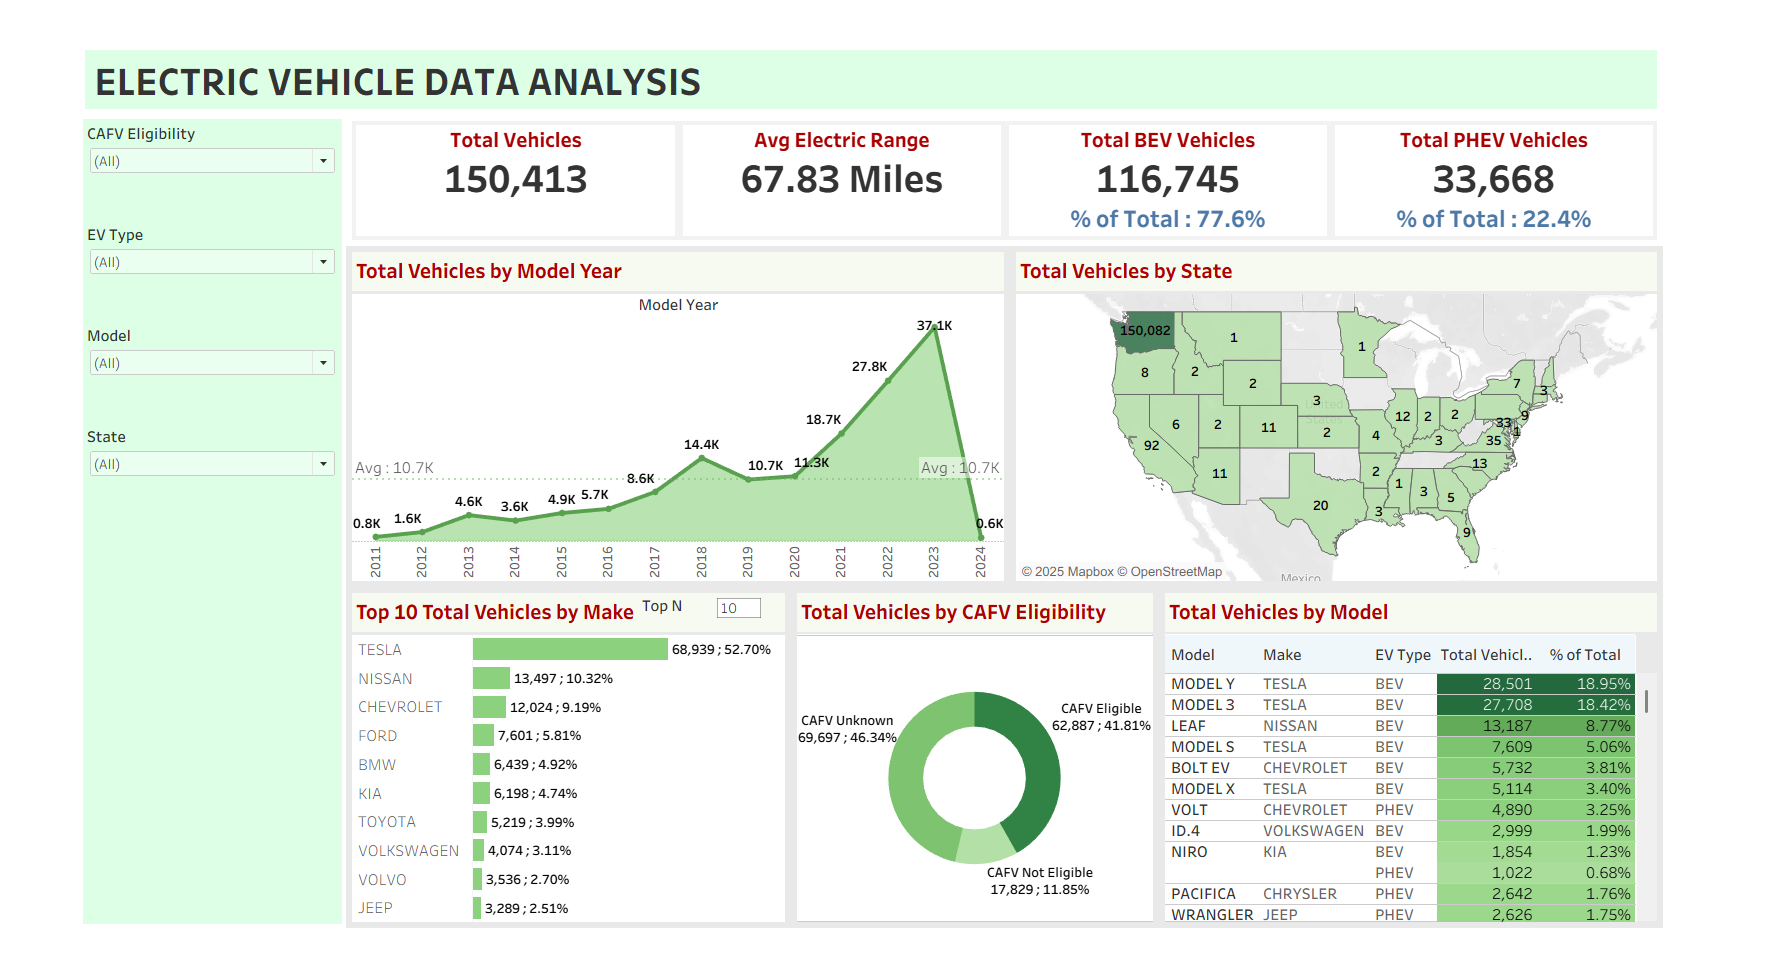

The page's visual inventory and layout, read from the dashboard file:
{"tool":"tableau","page":{"name":"Dashboard 1","canvas":[1600,900],"ordinal":0},"visuals":[{"type":"title","box":[8,8,1584,71]},{"type":"filter","title":"Total Vehicles by Model Year","param":"[federated.0nq8dl20ec3w0m14pzn0w0qdc2m4].[none:Clean Alternative Fuel Vehicle (C","box":[12,83,259,101]},{"type":"worksheet","title":"Total Vehicles","mark":"Automatic","box":[281,85,327,119]},{"type":"worksheet","title":"Avg Electric Range","mark":"Automatic","box":[608,85,326,119]},{"type":"worksheet","title":"Total BEV Vehicles","mark":"Automatic","box":[934,85,326,119]},{"type":"worksheet","title":"Total PHEV Vehicles","mark":"Automatic","box":[1260,85,326,119]},{"type":"filter","title":"Total Vehicles by Model Year","param":"[federated.0nq8dl20ec3w0m14pzn0w0qdc2m4].[none:Electric Vehicle Type:nk]","box":[12,184,259,101]},{"type":"worksheet","title":"Total Vehicles by Model Year","mark":"Area","rows":["Calculation_1779766281763905536","Calculation_1779766281763905536"],"cols":["Model Year"],"box":[275,210,664,341]},{"type":"worksheet","title":"Total Vehicles by State","mark":"Multipolygon","box":[939,210,653,341]},{"type":"filter","title":"Total Vehicles by Model Year","param":"[federated.0nq8dl20ec3w0m14pzn0w0qdc2m4].[none:Model:nk]","box":[12,285,259,101]},{"type":"filter","title":"Total Vehicles by Model Year","param":"[federated.0nq8dl20ec3w0m14pzn0w0qdc2m4].[none:State:nk]","box":[12,386,259,101]},{"type":"blank","box":[12,487,259,101]},{"type":"worksheet","title":"Top 10 Total Vehicles by Make","mark":"Automatic","rows":["Make"],"cols":["Calculation_1779766281763905536"],"box":[275,551,445,341]},{"type":"worksheet","title":"Total Vehicles by CAFV Eligibility","mark":"Pie","rows":["Calculation_1779766281780084743","Calculation_1779766281780084743"],"box":[720,551,368,341]},{"type":"worksheet","title":"Total Vehicles by Model","mark":"Square","rows":["Model","Make","Electric Vehicle Type"],"box":[1088,551,504,341]},{"type":"parameter","param":"[Parameters].[Parameter 1]","box":[571,559,122,37]},{"type":"blank","box":[12,588,259,100]},{"type":"blank","box":[12,688,259,100]},{"type":"blank","box":[12,788,259,100]}]}

Visuals, with their boxes in screenshot pixels (x1, y1, x2, y2), scaled from the page's 1600x900 canvas onto the 1767x977 screenshot:
title: x1=9 y1=9 x2=1758 y2=86
"Total Vehicles by Model Year" filter: x1=13 y1=90 x2=299 y2=200
"Total Vehicles" worksheet: x1=310 y1=92 x2=671 y2=221
"Avg Electric Range" worksheet: x1=671 y1=92 x2=1031 y2=221
"Total BEV Vehicles" worksheet: x1=1031 y1=92 x2=1392 y2=221
"Total PHEV Vehicles" worksheet: x1=1392 y1=92 x2=1752 y2=221
"Total Vehicles by Model Year" filter: x1=13 y1=200 x2=299 y2=309
"Total Vehicles by Model Year" worksheet (Area marks): x1=304 y1=228 x2=1037 y2=598
"Total Vehicles by State" worksheet (Multipolygon marks): x1=1037 y1=228 x2=1758 y2=598
"Total Vehicles by Model Year" filter: x1=13 y1=309 x2=299 y2=419
"Total Vehicles by Model Year" filter: x1=13 y1=419 x2=299 y2=529
blank: x1=13 y1=529 x2=299 y2=638
"Top 10 Total Vehicles by Make" worksheet: x1=304 y1=598 x2=795 y2=968
"Total Vehicles by CAFV Eligibility" worksheet (Pie marks): x1=795 y1=598 x2=1202 y2=968
"Total Vehicles by Model" worksheet (Square marks): x1=1202 y1=598 x2=1758 y2=968
parameter: x1=631 y1=607 x2=765 y2=647
blank: x1=13 y1=638 x2=299 y2=747
blank: x1=13 y1=747 x2=299 y2=855
blank: x1=13 y1=855 x2=299 y2=964
